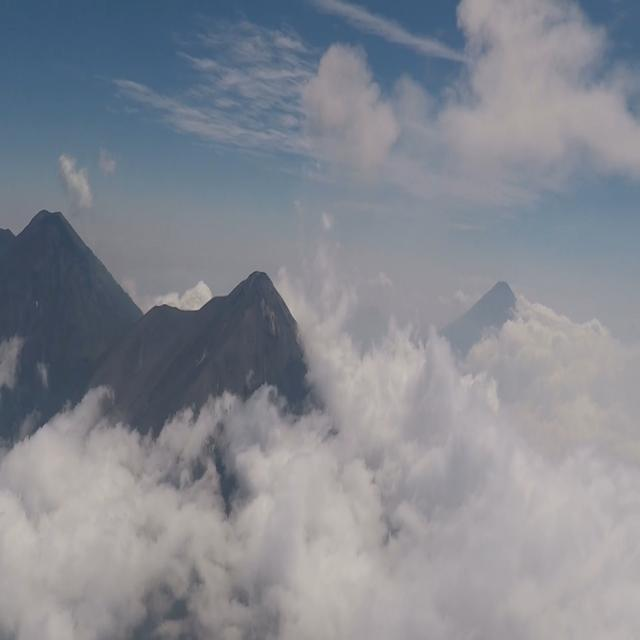Plume: (304, 35, 400, 185)
Summit: (200, 258, 284, 310)
